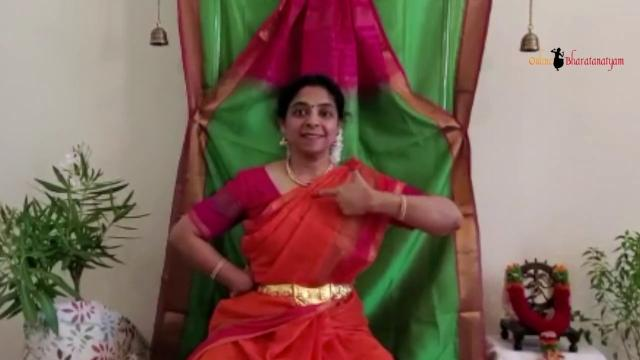chandrakala: (296, 153, 386, 239)
